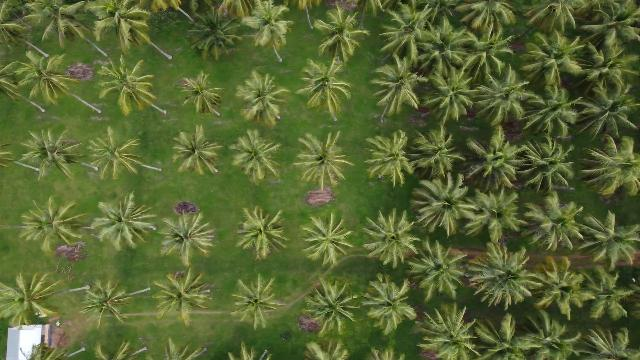trees: (2, 52, 88, 111), (465, 246, 538, 310), (468, 69, 538, 131), (91, 192, 162, 253), (19, 197, 92, 255), (518, 32, 586, 94), (406, 242, 472, 305), (462, 129, 528, 192), (409, 176, 477, 237), (569, 87, 640, 144), (526, 257, 591, 318), (577, 136, 640, 198), (419, 67, 483, 128), (97, 57, 162, 117), (575, 209, 640, 269), (293, 132, 356, 193), (520, 195, 586, 253), (16, 128, 88, 181), (152, 270, 216, 329), (2, 272, 68, 329), (518, 83, 584, 140), (361, 210, 423, 270), (514, 137, 579, 194), (414, 304, 482, 358), (302, 278, 364, 337), (461, 189, 525, 246), (297, 58, 355, 120), (89, 3, 156, 56), (313, 5, 372, 65), (509, 313, 584, 360), (87, 127, 152, 181), (374, 60, 429, 123), (301, 212, 359, 271), (401, 128, 463, 183), (160, 211, 221, 266), (377, 9, 431, 71), (231, 276, 290, 332), (362, 277, 418, 336), (30, 2, 95, 52), (230, 129, 287, 185), (79, 278, 140, 330), (235, 206, 290, 262), (236, 71, 291, 127), (188, 10, 246, 63), (580, 269, 640, 320), (366, 130, 419, 186), (245, 2, 298, 57), (172, 124, 225, 176), (473, 314, 532, 359), (455, 1, 519, 37), (179, 72, 228, 119), (583, 325, 637, 359), (1, 4, 37, 51), (93, 340, 143, 360)
